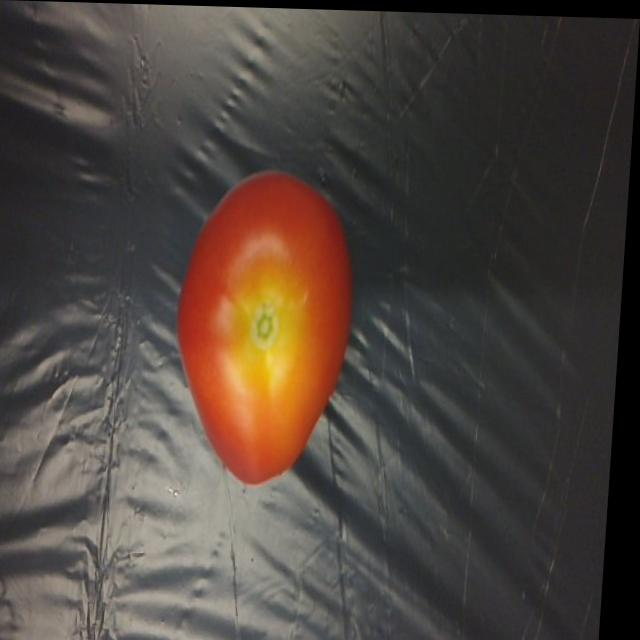sari: (155, 151, 382, 501)
